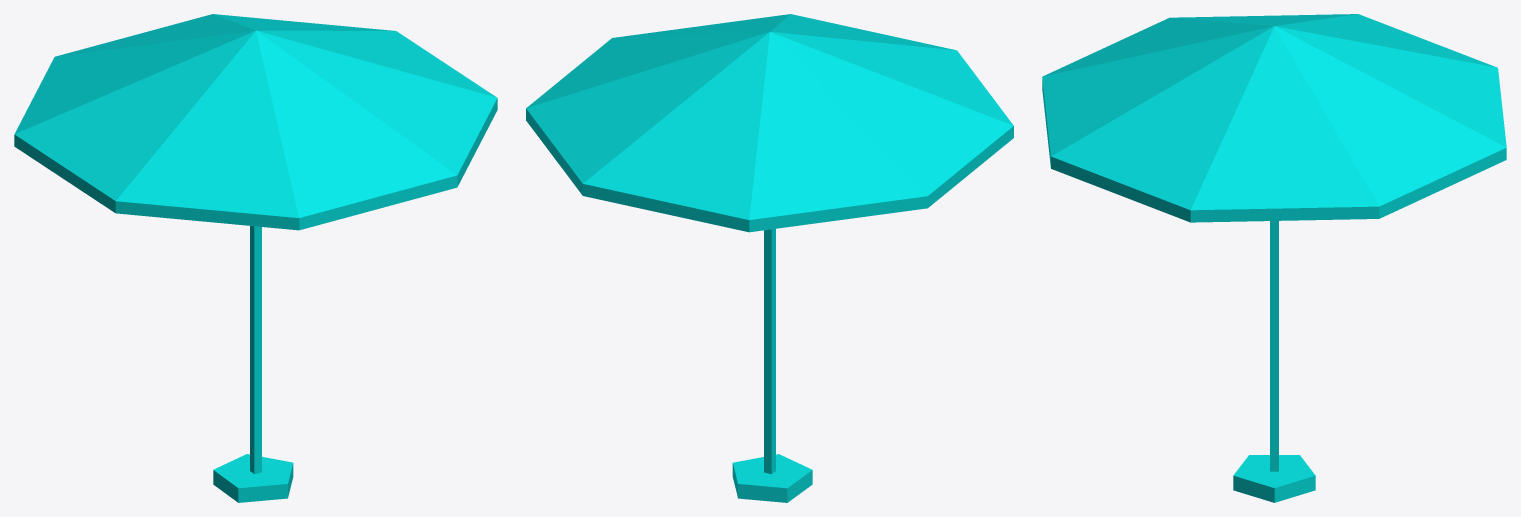
File: SM_Prop_Umbrella_01_Collision.fbx
3 views of the same model, side by side, from view 1: azimuth 30°, elevation 25°; view 2: azimuth 150°, elevation 25°; view 3: azimuth 270°, elevation 25° (orthographic).
Visible parts, largest first — view 1: SM_Prop_Umbrella_01_Collision; view 2: SM_Prop_Umbrella_01_Collision; view 3: SM_Prop_Umbrella_01_Collision.
Boxes of the visible parts, x1,y1,x2,y2 form: SM_Prop_Umbrella_01_Collision: (14,14,497,502); SM_Prop_Umbrella_01_Collision: (526,14,1013,502); SM_Prop_Umbrella_01_Collision: (1042,14,1506,502).
Size of the model in its own units: 260 by 283 by 260.
